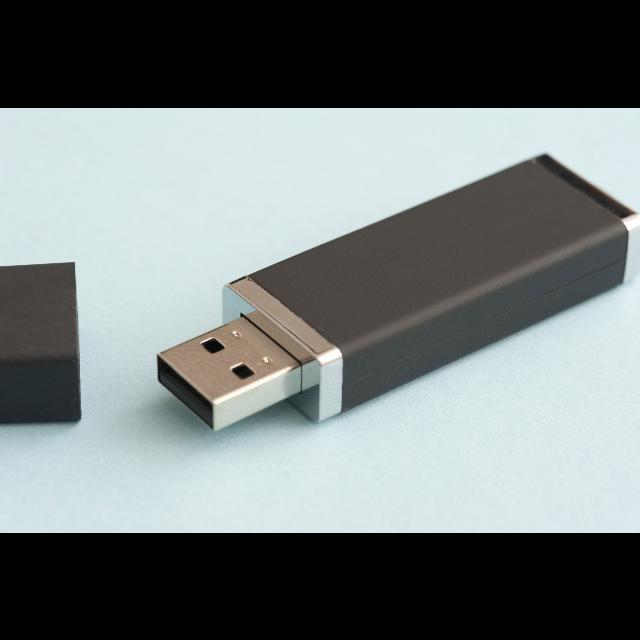USB-Flash-Drive: (147, 154, 638, 442)
